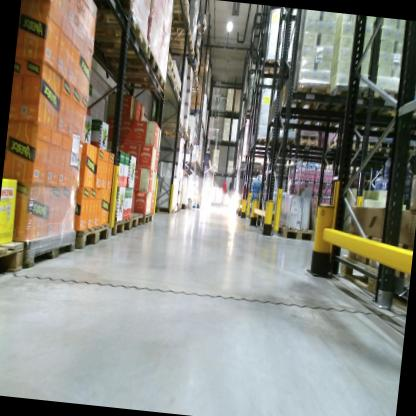pallet: (74, 8, 411, 317), (304, 77, 373, 135), (13, 225, 79, 280), (348, 82, 410, 132), (278, 74, 332, 125), (96, 43, 162, 80), (257, 217, 324, 247), (108, 61, 167, 95), (73, 217, 111, 254), (73, 0, 138, 21), (0, 238, 24, 283), (165, 0, 193, 30), (162, 25, 194, 49), (259, 50, 286, 77), (160, 40, 197, 59), (326, 139, 361, 159), (109, 215, 133, 237), (270, 135, 297, 153), (400, 102, 416, 131), (297, 135, 320, 155), (161, 126, 190, 141), (157, 115, 184, 131), (250, 135, 274, 152), (126, 208, 143, 232), (357, 143, 381, 157), (166, 49, 176, 78), (376, 145, 398, 157), (399, 146, 416, 159), (153, 205, 175, 215), (140, 212, 153, 228), (190, 84, 200, 93), (180, 203, 189, 211), (176, 205, 182, 213)
